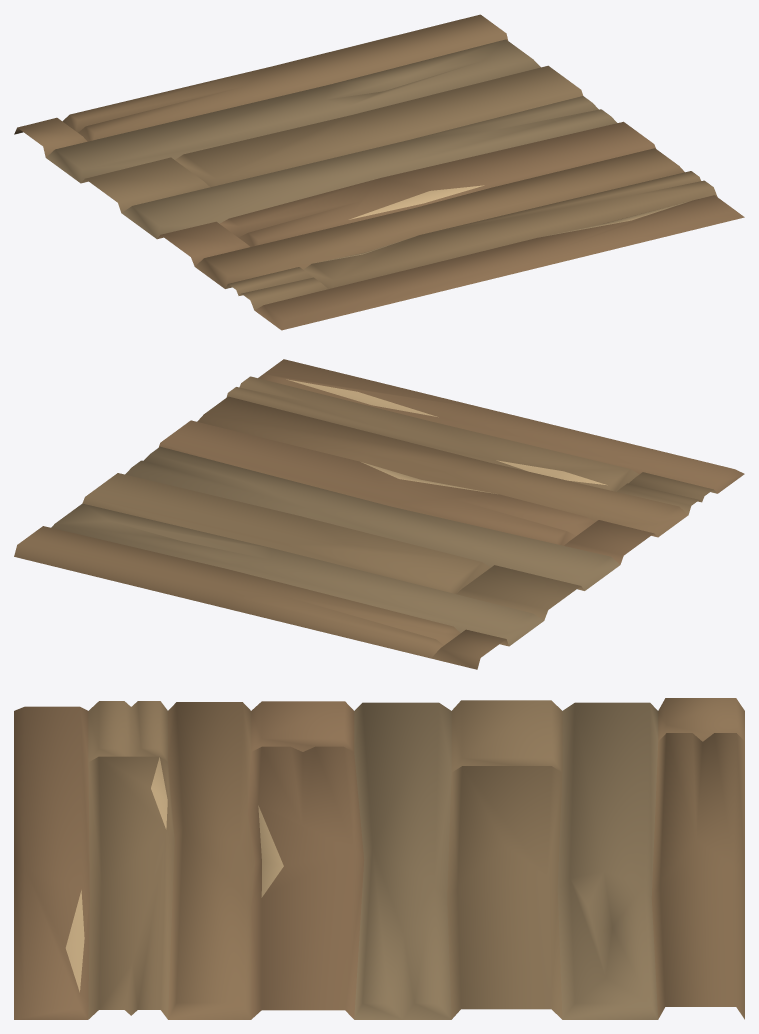
Rendered from rpgpp_ag_floor_02a_3x3.fbx.
3 views of the same model, one above another, from view 1: azimuth 30°, elevation 25°; view 2: azimuth 150°, elevation 25°; view 3: azimuth 270°, elevation 25° (orthographic). The views are drawn at different scales.
Parts seen in each view (by area): view 1: rpgpp_ag_floor_02a_3x3; view 2: rpgpp_ag_floor_02a_3x3; view 3: rpgpp_ag_floor_02a_3x3.
Part boxes in pixels (x1,y1,x2,y2): rpgpp_ag_floor_02a_3x3: (14,14,744,330); rpgpp_ag_floor_02a_3x3: (14,359,744,669); rpgpp_ag_floor_02a_3x3: (14,698,744,1019).
Bounding box in the file's own units: 3 × 0.0587 × 3.
